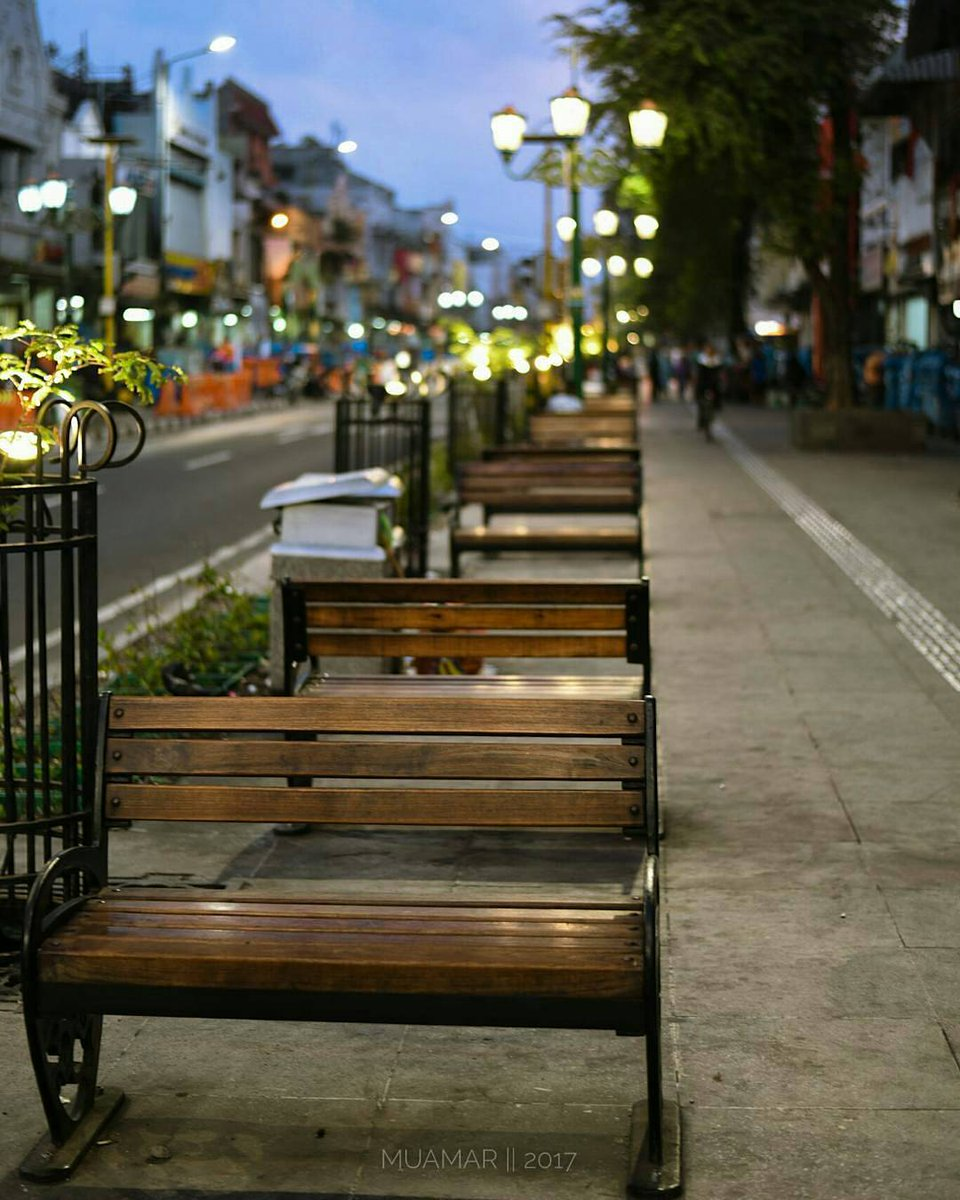bench: (24, 680, 674, 1195), (448, 444, 662, 575)
